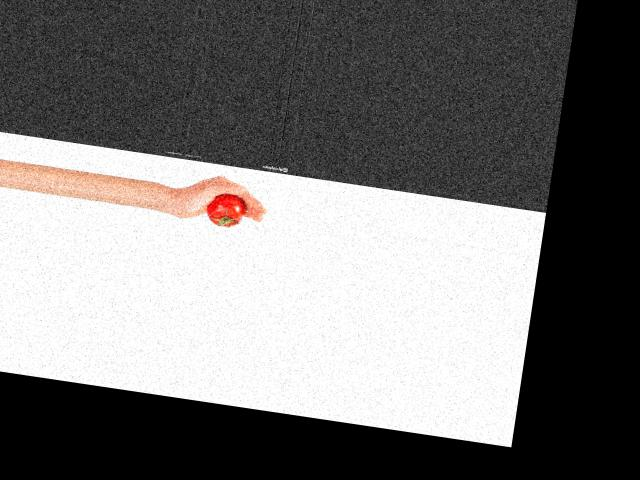tomato: (203, 191, 245, 228)
